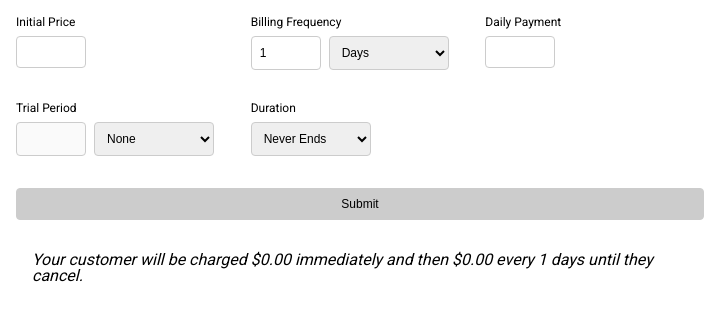
Test case: errors › should render error message when 'Billing Cycle' value is empty and 'Duration' select is 'customize'
Type "10" into the number field labelled "Daily Payment" at (520, 52), box [485, 36, 555, 68]
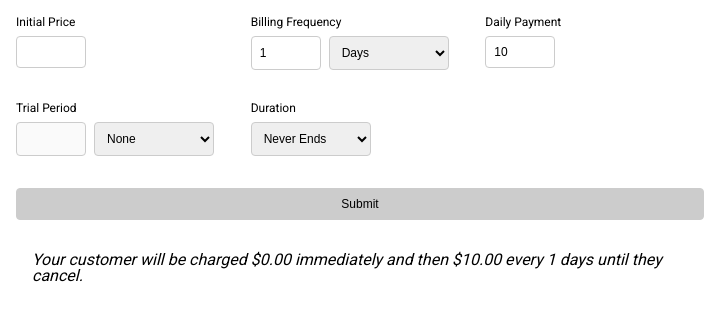
Select "Customize" in the dropdown with test id "duration-select" at (311, 139), box [251, 122, 371, 156]
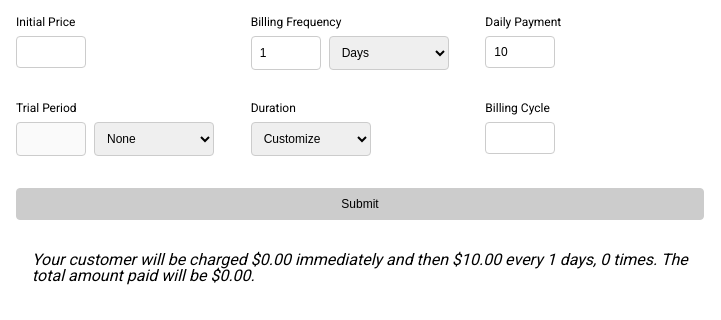
Submit the form with test id "form"
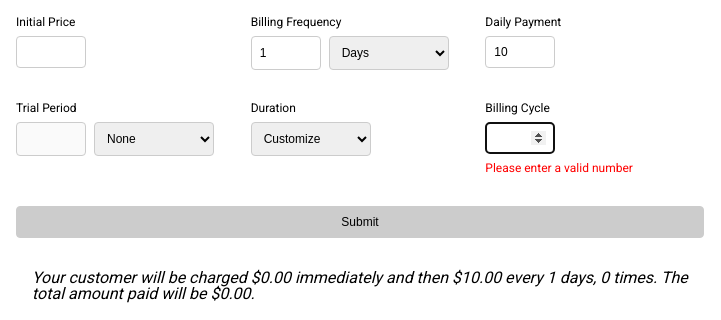
Result: the text "Please enter a valid number" is shown at [485, 161, 633, 175]
